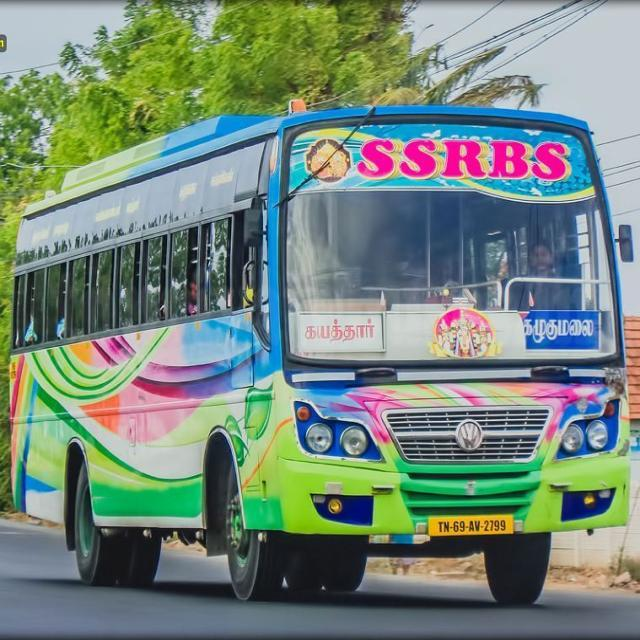Bus: (5, 93, 632, 607)
